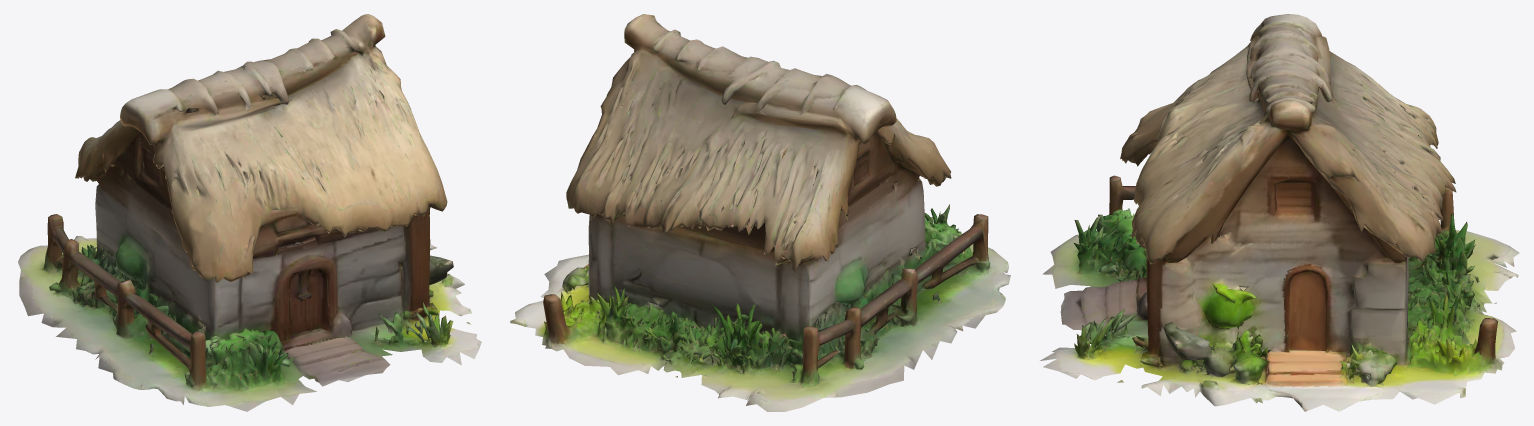
The model's file is wooden-cottage.glb.
3 views of the same model, side by side, from view 1: azimuth 30°, elevation 25°; view 2: azimuth 150°, elevation 25°; view 3: azimuth 270°, elevation 25° (orthographic). The views are drawn at different scales.
Parts seen in each view (by area): view 1: geometry_0; view 2: geometry_0; view 3: geometry_0.
Part boxes in pixels (x1,y1,x2,y2): geometry_0: [18, 14, 481, 411]; geometry_0: [510, 14, 1010, 411]; geometry_0: [1040, 14, 1519, 411].
Size of the model in its own units: 4.58 by 3 by 4.74.
1 material, 1 textured.
